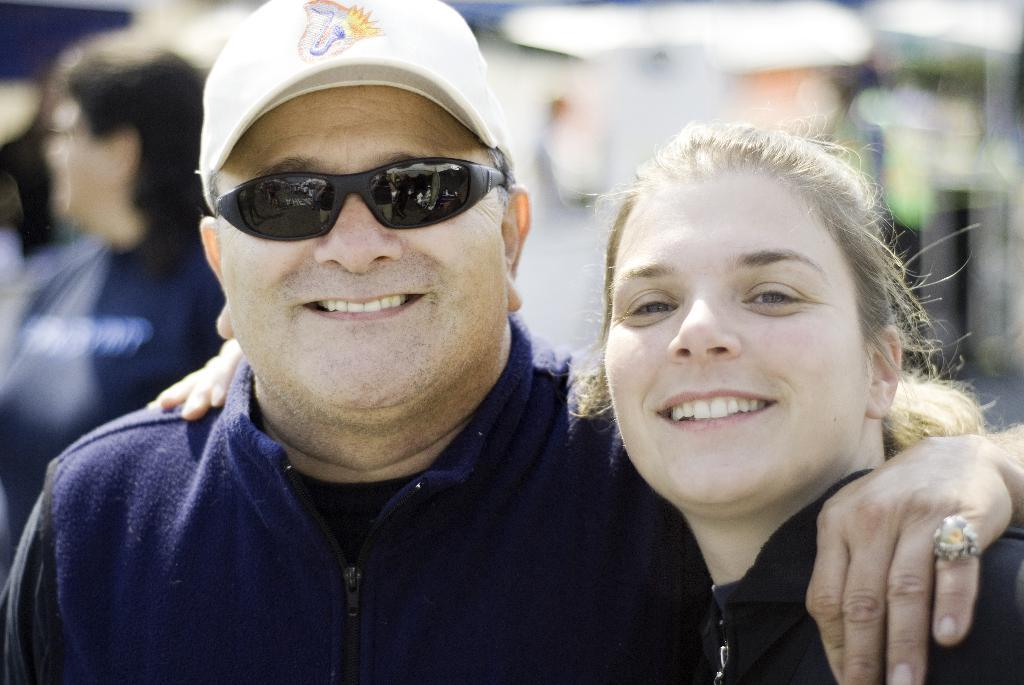Hat: (196, 0, 504, 214)
